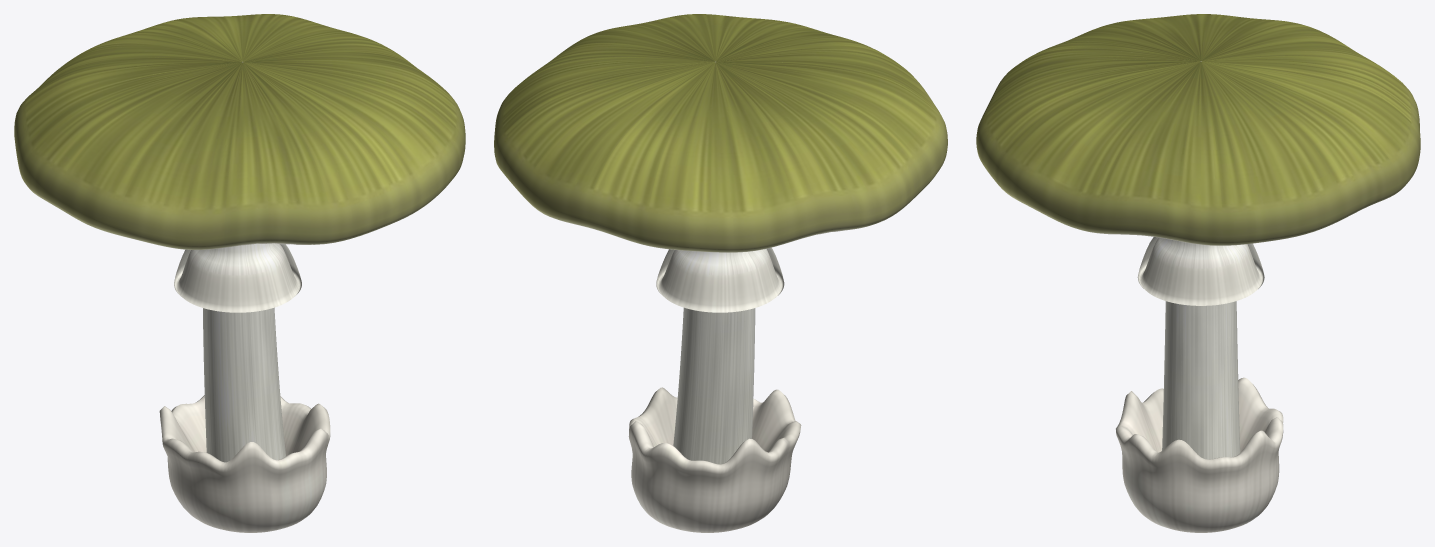
File: amanita-phalloides-drawn.glb
The picture shows the model from 3 angles, left to right: view 1: azimuth 30°, elevation 25°; view 2: azimuth 150°, elevation 25°; view 3: azimuth 270°, elevation 25°; orthographic projection.
Size of the model in its own units: 0.8201 by 0.91 by 0.8163.
1 material, 1 textured.
